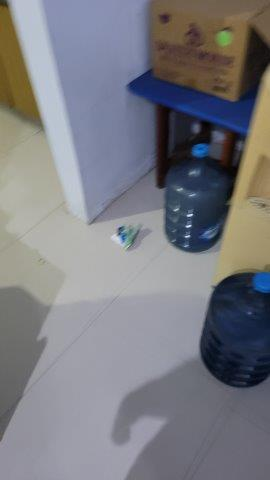kertas: (110, 223, 143, 251)
